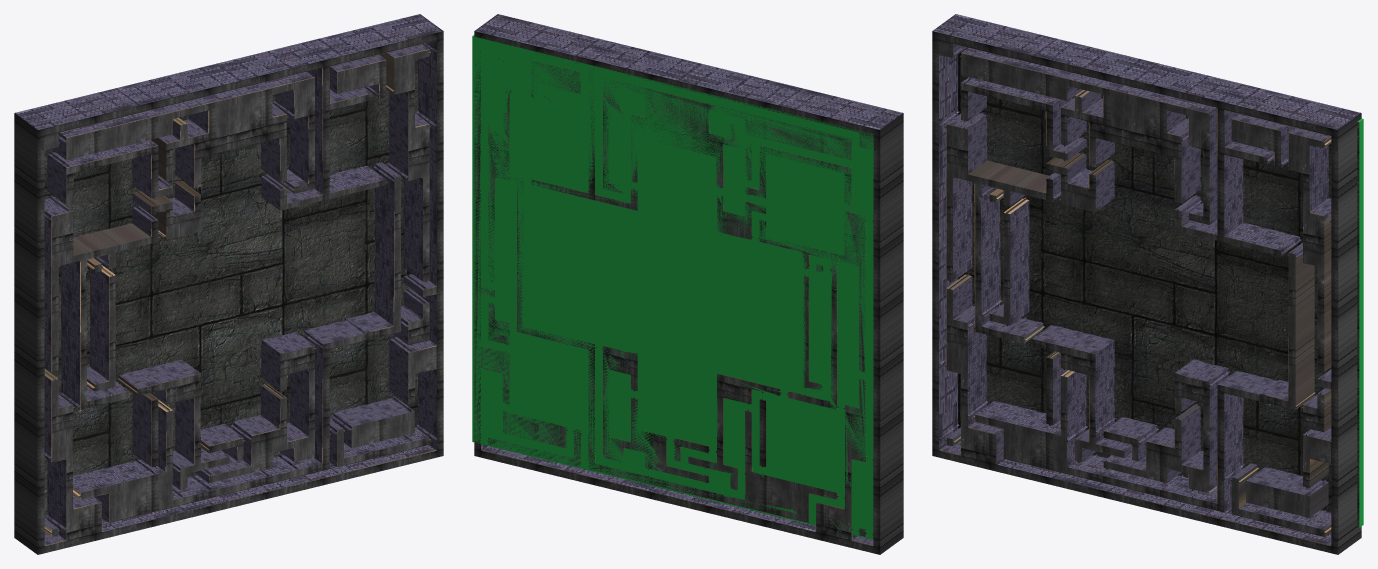
Rendered from dungeon3.obj.
3 renders of one model, left to right at view 1: azimuth 30°, elevation 25°; view 2: azimuth 150°, elevation 25°; view 3: azimuth 330°, elevation 25°, orthographic.
Visible parts, largest first — view 1: Object.1, Object.2, Object.4, Object.3, Object.9, Object.16, Object.17, Object.15, Object.19, Object.7, Object.11, Object.13 (+5 smaller); view 2: Object.1, Object.2, Object.4, Object.3, Object.9, Object.16, Object.15, Object.17, Object.11, Object.19, Object.13, Object.7 (+4 smaller); view 3: Object.1, Object.2, Object.4, Object.3, Object.9, Object.16, Object.17, Object.15, Object.7, Object.19, Object.11, Object.13 (+5 smaller).
Part boxes in pixels (x1,y1,x2,y2): Object.1: (44, 59, 417, 519); Object.2: (14, 14, 443, 554); Object.4: (73, 162, 402, 522); Object.3: (51, 71, 314, 193); Object.9: (44, 196, 159, 409); Object.16: (194, 332, 316, 483); Object.17: (379, 44, 430, 282); Object.15: (117, 359, 229, 490); Object.19: (47, 139, 172, 205); Object.7: (87, 265, 115, 391); Object.11: (331, 396, 414, 448); Object.13: (132, 180, 200, 239); Object.1: (472, 35, 873, 539); Object.2: (474, 14, 903, 554); Object.4: (516, 178, 838, 522); Object.3: (603, 78, 852, 193); Object.9: (758, 210, 866, 409); Object.16: (602, 346, 708, 483); Object.15: (688, 373, 781, 490); Object.17: (488, 58, 511, 281); Object.11: (503, 410, 567, 448); Object.19: (745, 145, 851, 205); Object.13: (717, 194, 766, 239); Object.7: (803, 274, 823, 390); Object.1: (958, 47, 1363, 527); Object.2: (932, 14, 1361, 554); Object.4: (973, 242, 1315, 512); Object.3: (959, 47, 1217, 224); Object.9: (945, 112, 1060, 343); Object.16: (1103, 359, 1229, 493); Object.17: (1287, 127, 1331, 372); Object.15: (1031, 325, 1131, 462); Object.7: (987, 197, 1029, 326); Object.19: (961, 77, 1086, 161); Object.11: (1245, 467, 1328, 518); Object.13: (1046, 152, 1114, 211).
Bounding box in the file's own units: 21454 × 21349 × 2138.
Materials: 4 (3 with a texture image).
